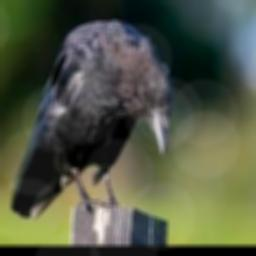Crow: (9, 19, 172, 219)
